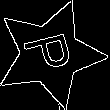P_E: (20, 29, 81, 79)
